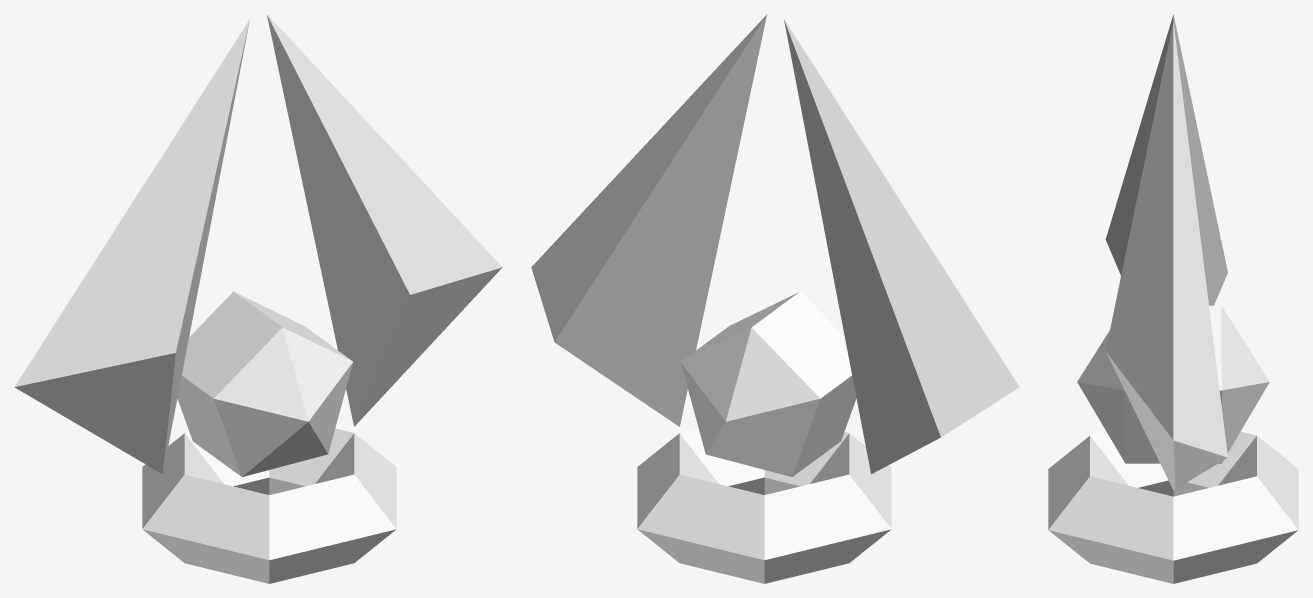
The model's file is civilian.FBX.
The picture shows the model from 3 angles, left to right: view 1: azimuth 30°, elevation 25°; view 2: azimuth 150°, elevation 25°; view 3: azimuth 270°, elevation 25°; orthographic projection.
Parts seen in each view (by area): view 1: polySurface2, polySurface1, pTorus2, pSphere1; view 2: polySurface1, polySurface2, pTorus2, pSphere1; view 3: polySurface1, pTorus2, pSphere1, polySurface2.
Part boxes in pixels (x1,y1,x2,y2): polySurface2: (14, 19, 249, 474); polySurface1: (267, 14, 502, 426); pTorus2: (142, 428, 396, 583); pSphere1: (177, 291, 352, 476); polySurface1: (531, 14, 766, 426); polySurface2: (784, 19, 1019, 474); pTorus2: (637, 428, 891, 583); pSphere1: (680, 291, 856, 476); polySurface1: (1105, 21, 1227, 490); pTorus2: (1048, 431, 1298, 583); pSphere1: (1077, 305, 1269, 463); polySurface2: (1105, 14, 1227, 305).
Size of the model in its own units: 2.27 by 2.35 by 1.02.
Materials: 4 (4 with a texture image).
